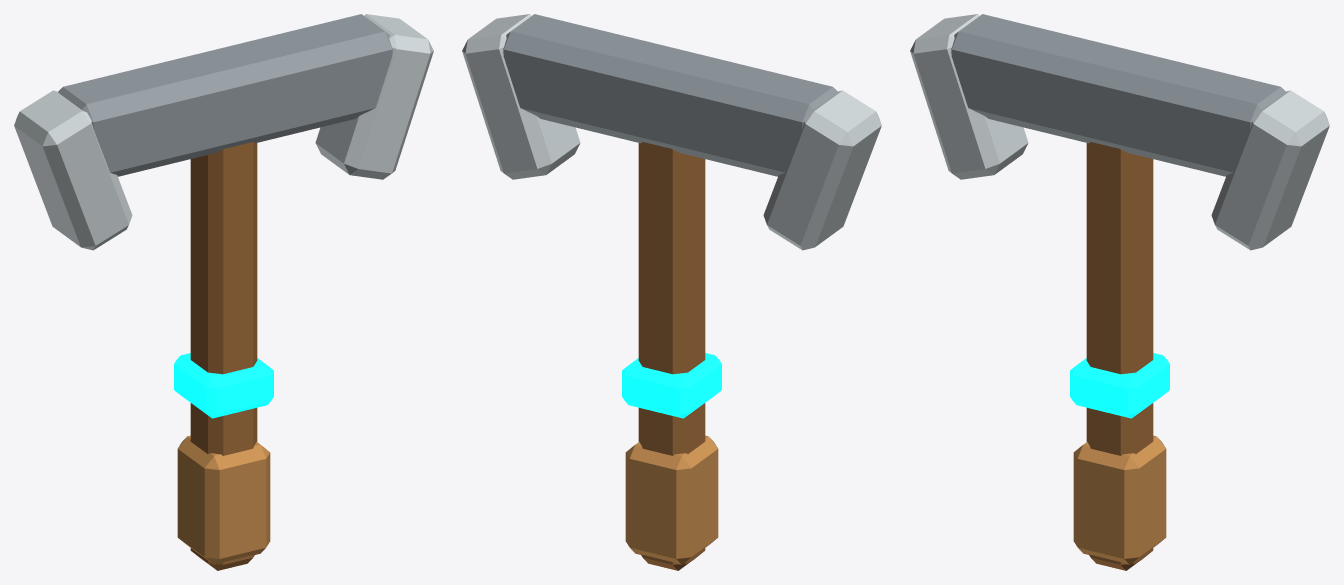
Rendered from voxhaven-pickaxe.glb.
3 renders of one model, left to right at view 1: azimuth 30°, elevation 25°; view 2: azimuth 150°, elevation 25°; view 3: azimuth 330°, elevation 25°, orthographic.
Visible parts, largest first — view 1: PickHead, Handle, PickEdgeL, Grip, PickEdgeR, GripBand; view 2: PickHead, Handle, PickEdgeL, Grip, PickEdgeR, GripBand; view 3: PickHead, Handle, PickEdgeR, Grip, PickEdgeL, GripBand.
Boxes of the visible parts, bbox=[...] form: PickHead: bbox=[58, 14, 392, 176]; Handle: bbox=[190, 142, 257, 570]; PickEdgeL: bbox=[14, 90, 132, 250]; Grip: bbox=[177, 435, 270, 564]; PickEdgeR: bbox=[315, 14, 433, 179]; GripBand: bbox=[174, 353, 273, 418]; PickHead: bbox=[503, 14, 837, 176]; Handle: bbox=[638, 142, 705, 570]; PickEdgeL: bbox=[763, 90, 881, 250]; Grip: bbox=[625, 435, 718, 564]; PickEdgeR: bbox=[462, 14, 580, 179]; GripBand: bbox=[622, 353, 721, 418]; PickHead: bbox=[951, 14, 1285, 176]; Handle: bbox=[1086, 142, 1153, 570]; PickEdgeR: bbox=[1211, 90, 1329, 250]; Grip: bbox=[1073, 435, 1166, 564]; PickEdgeL: bbox=[910, 14, 1028, 179]; GripBand: bbox=[1070, 353, 1169, 418].
Size of the model in its own units: 1.43 by 1.75 by 0.25.
